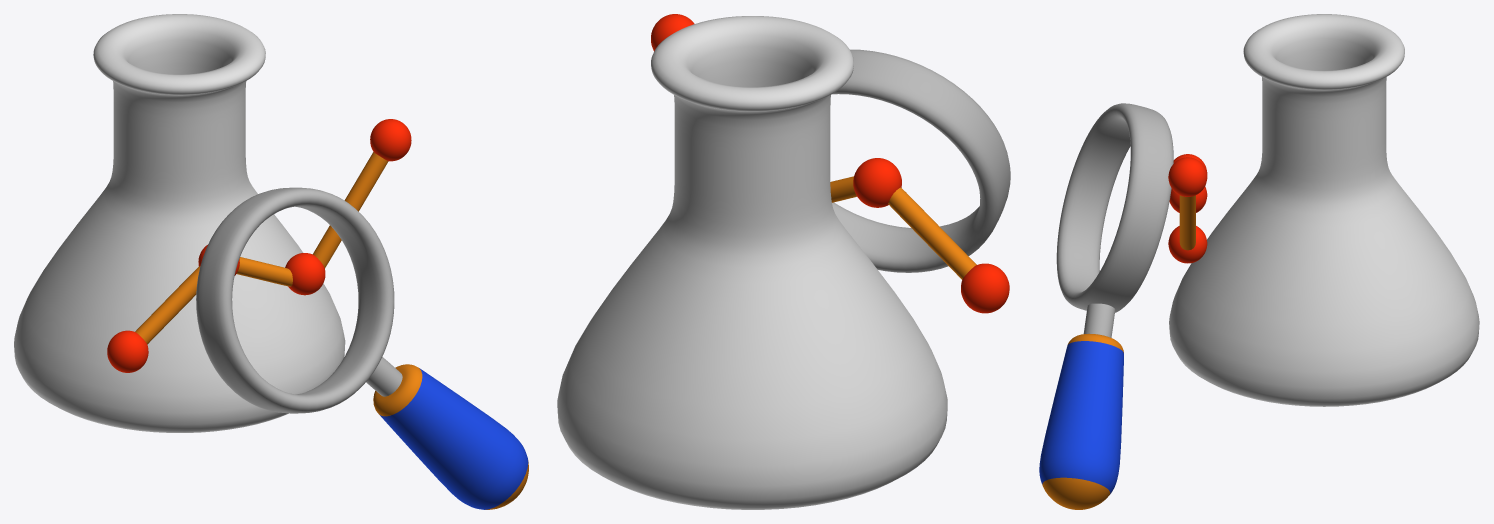
File: Analysis 2.glb
3 views of the same model, side by side, from view 1: azimuth 30°, elevation 25°; view 2: azimuth 150°, elevation 25°; view 3: azimuth 270°, elevation 25° (orthographic). The views are drawn at different scales.
Parts seen in each view (by area): view 1: Cylinder, Circle, Cylinder.002, Sphere.001, Vert, Cylinder.001; view 2: Cylinder, Circle, Sphere.001, Vert; view 3: Cylinder, Circle, Cylinder.002, Sphere.001, Vert, Cylinder.001.
Boxes of the visible parts, x1,y1,x2,y2 form: Cylinder: [14, 14, 345, 432]; Circle: [196, 187, 394, 413]; Cylinder.002: [373, 364, 528, 509]; Sphere.001: [107, 119, 411, 372]; Vert: [135, 152, 388, 344]; Cylinder.001: [366, 357, 402, 396]; Cylinder: [557, 16, 947, 509]; Circle: [832, 49, 1010, 272]; Sphere.001: [651, 14, 1009, 313]; Vert: [830, 176, 976, 279]; Cylinder: [1169, 14, 1479, 406]; Circle: [1056, 103, 1173, 312]; Cylinder.002: [1039, 333, 1123, 509]; Sphere.001: [1168, 154, 1207, 263]; Vert: [1179, 195, 1195, 250]; Cylinder.001: [1083, 303, 1115, 337].
Bounding box in the file's own units: 5.59 × 6.1 × 6.38.
